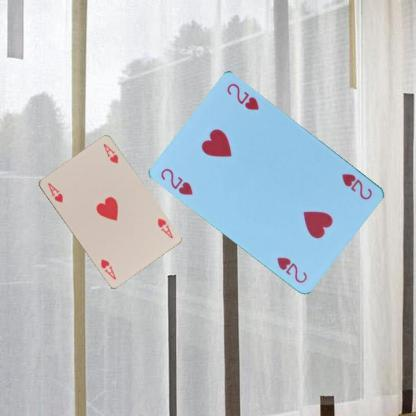2h: (157, 166, 195, 196), (340, 171, 374, 201)
Ah: (154, 215, 174, 240), (45, 180, 64, 204)
